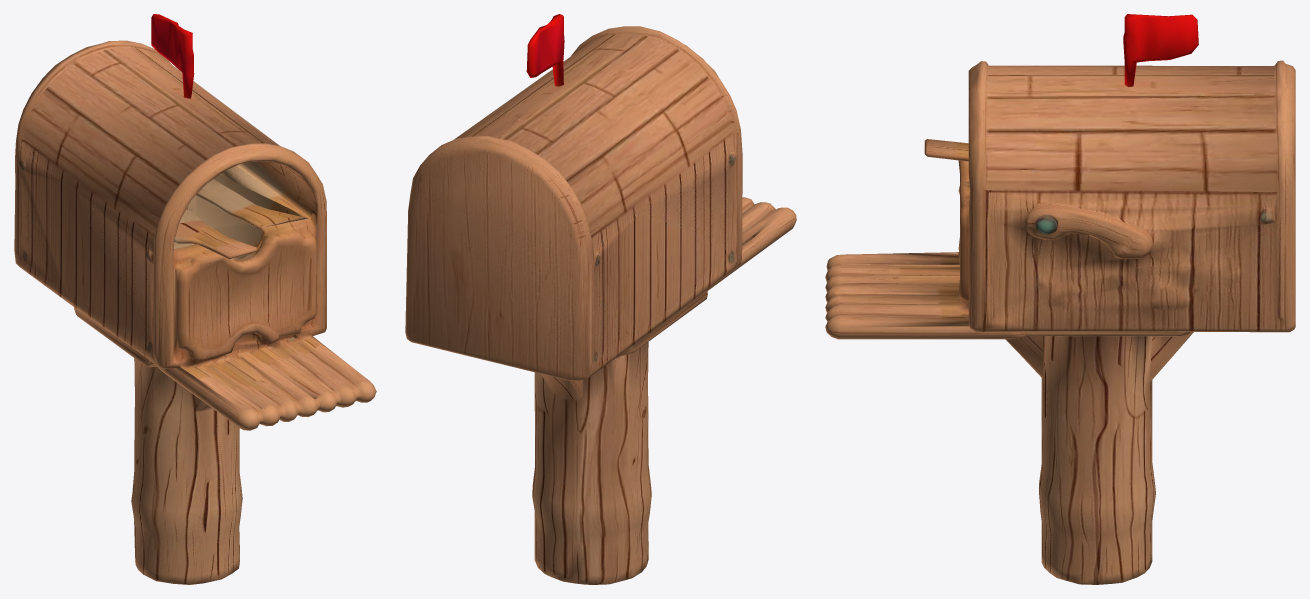
Rendered from mailbox.glb.
3 renders of one model, left to right at view 1: azimuth 30°, elevation 25°; view 2: azimuth 150°, elevation 25°; view 3: azimuth 270°, elevation 25°, orthographic. The views are drawn at different scales.
Size of the model in its own units: 0.6967 by 1.91 by 1.46.
Materials: 1 (1 with a texture image).
